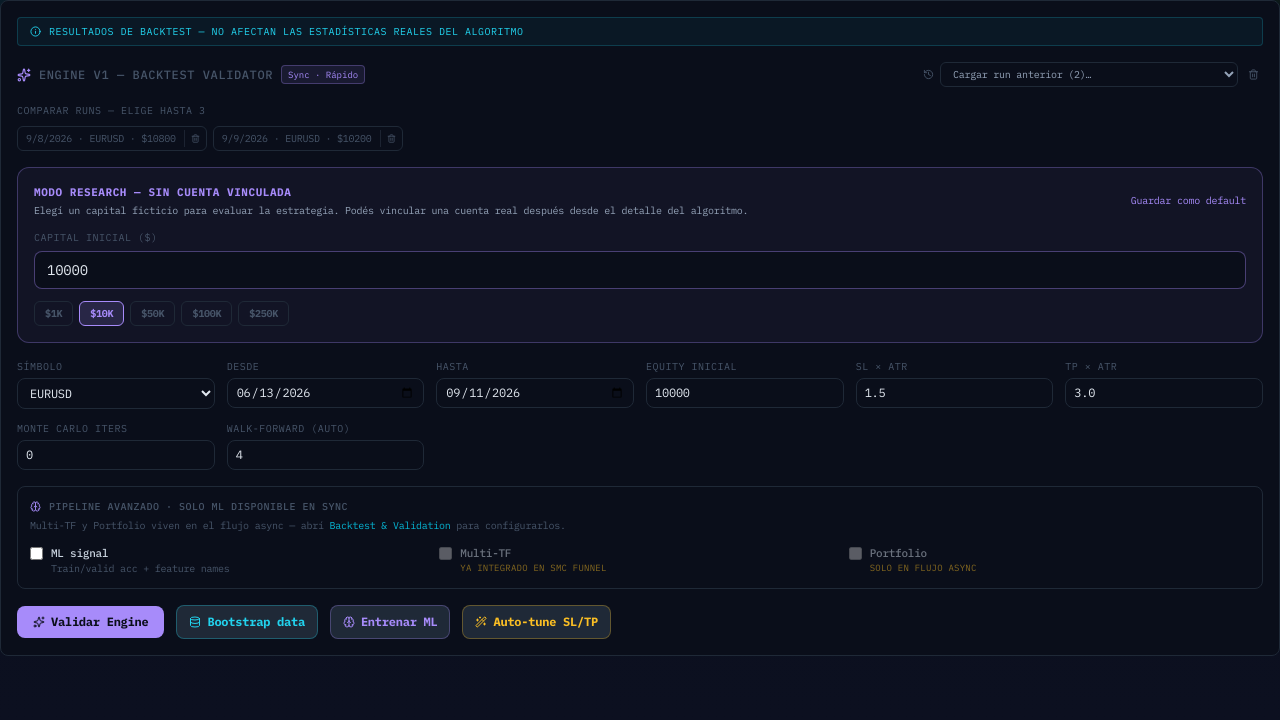
Test: EngineBacktestPanel — Compare runs (Mejora #5) › renders 2-column CompareView when 2 runs are selected (backwards-compat)
Expected: the text "Comparar runs — elige hasta 3" is shown, x1=17 y1=104 x2=206 y2=117
Click the button "9/8/2026 · EURUSD · $10800": [101, 138] box x1=18 y1=127 x2=184 y2=150
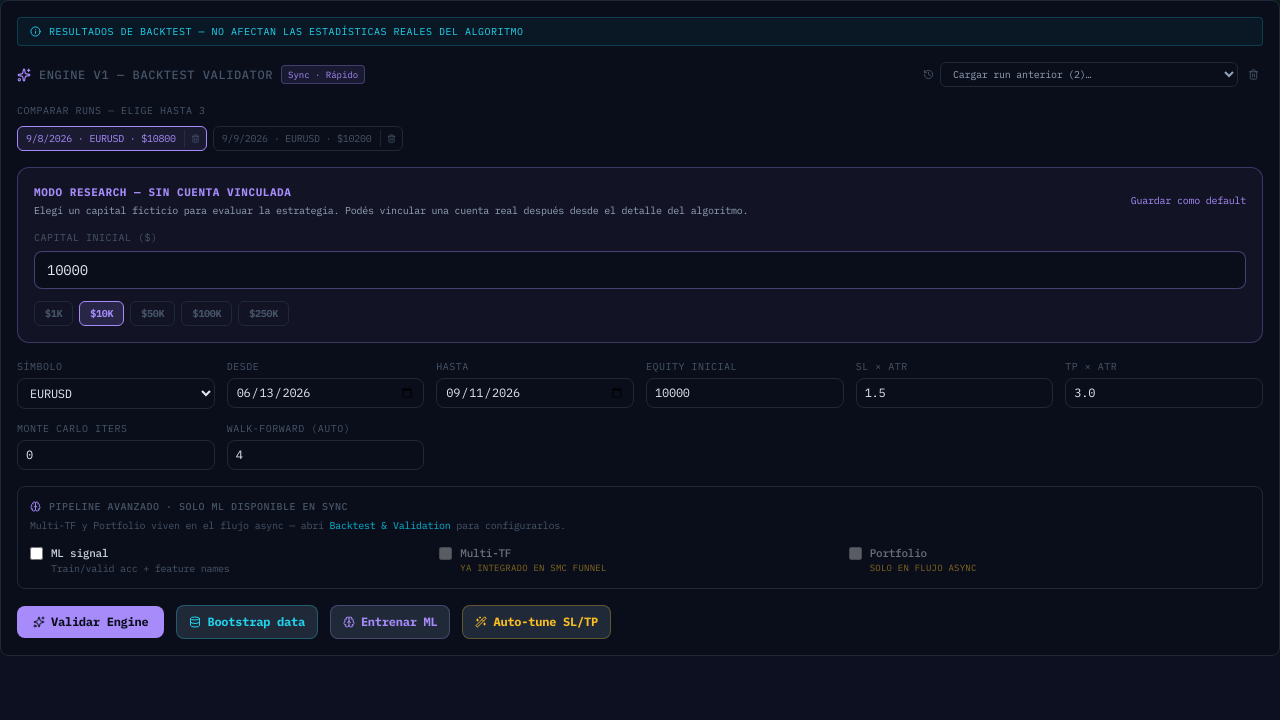
Click the button "9/9/2026 · EURUSD · $10200": [297, 138] box x1=214 y1=127 x2=380 y2=150
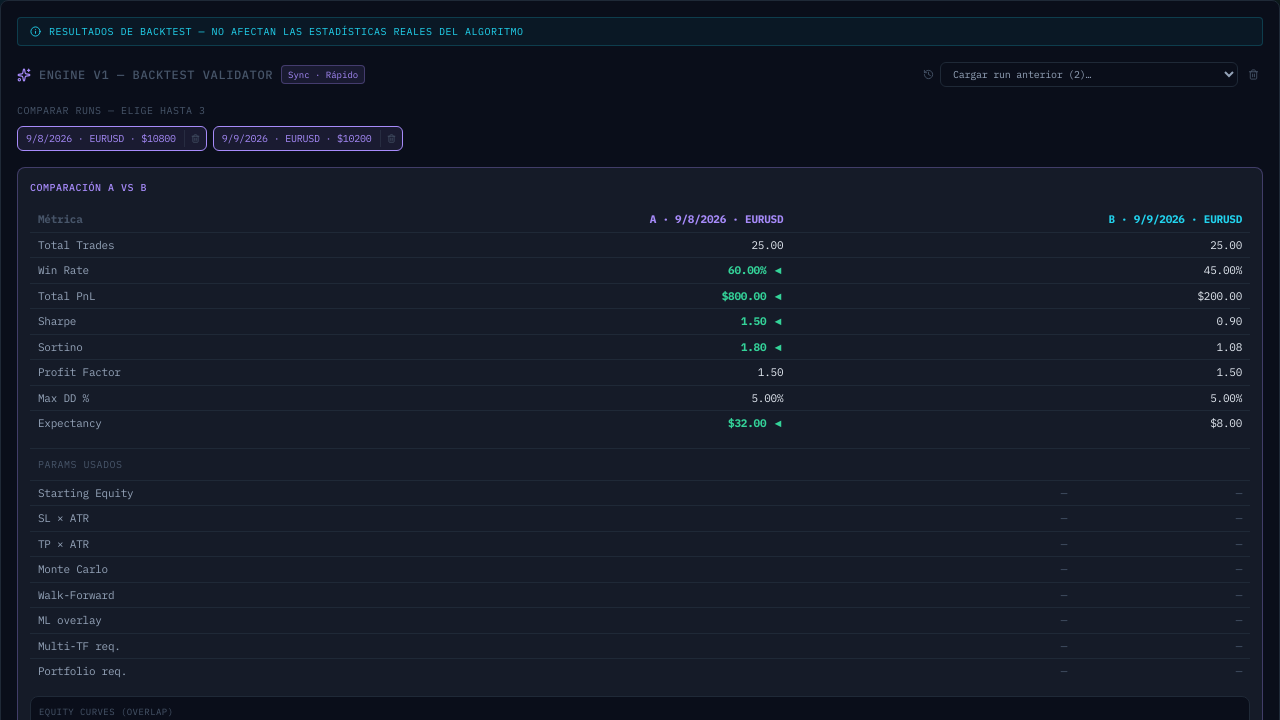
Now the text "Comparación A vs B" is shown, box x1=30 y1=181 x2=147 y2=194
Now the column heading "A · 9/8/2026 · EURUSD" is shown, box x1=332 y1=207 x2=791 y2=232
Now the column heading "B · 9/9/2026 · EURUSD" is shown, box x1=791 y1=207 x2=1250 y2=232
